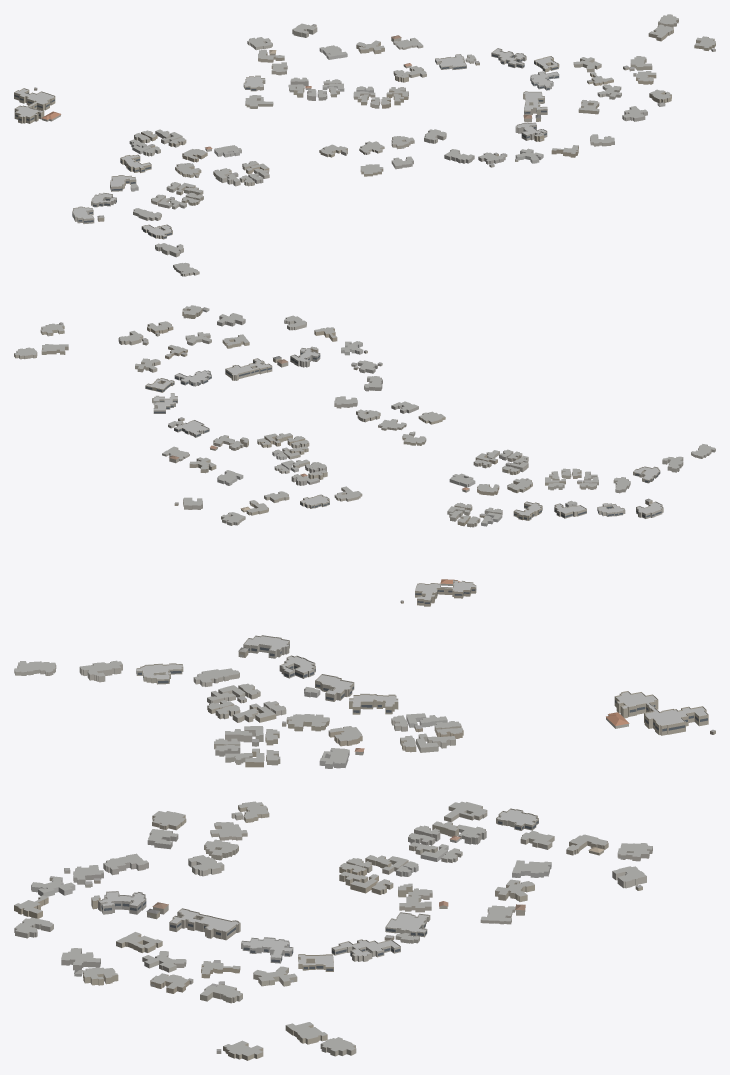
File: buildings_r7_c2.glb
3 views of the same model, one above another, from view 1: azimuth 30°, elevation 25°; view 2: azimuth 150°, elevation 25°; view 3: azimuth 270°, elevation 25° (orthographic). The views are drawn at different scales.
Parts seen in each view (by area): view 1: buildings_r7_c2; view 2: buildings_r7_c2; view 3: buildings_r7_c2.
Part boxes in pixels (x1=…): buildings_r7_c2: x1=14, y1=14, x2=715, y2=276; buildings_r7_c2: x1=14, y1=305, x2=715, y2=606; buildings_r7_c2: x1=14, y1=635, x2=715, y2=1060.
Bounding box in the file's own units: 1131 × 75.29 × 728.
